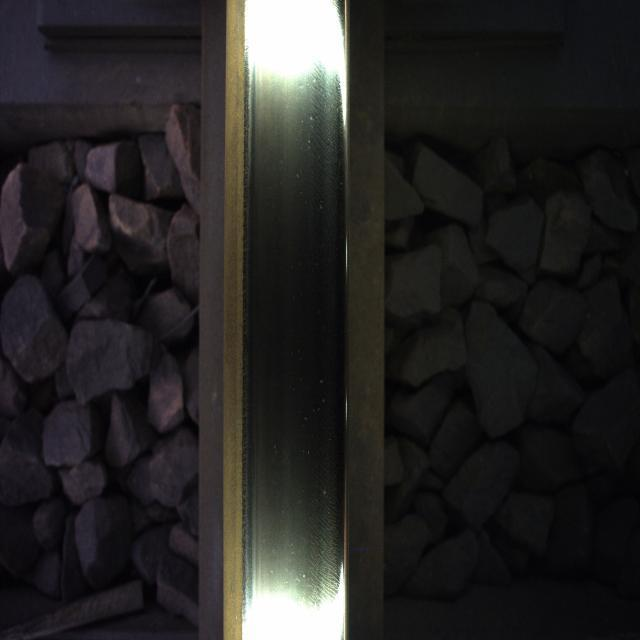break: (256, 48, 332, 612)
